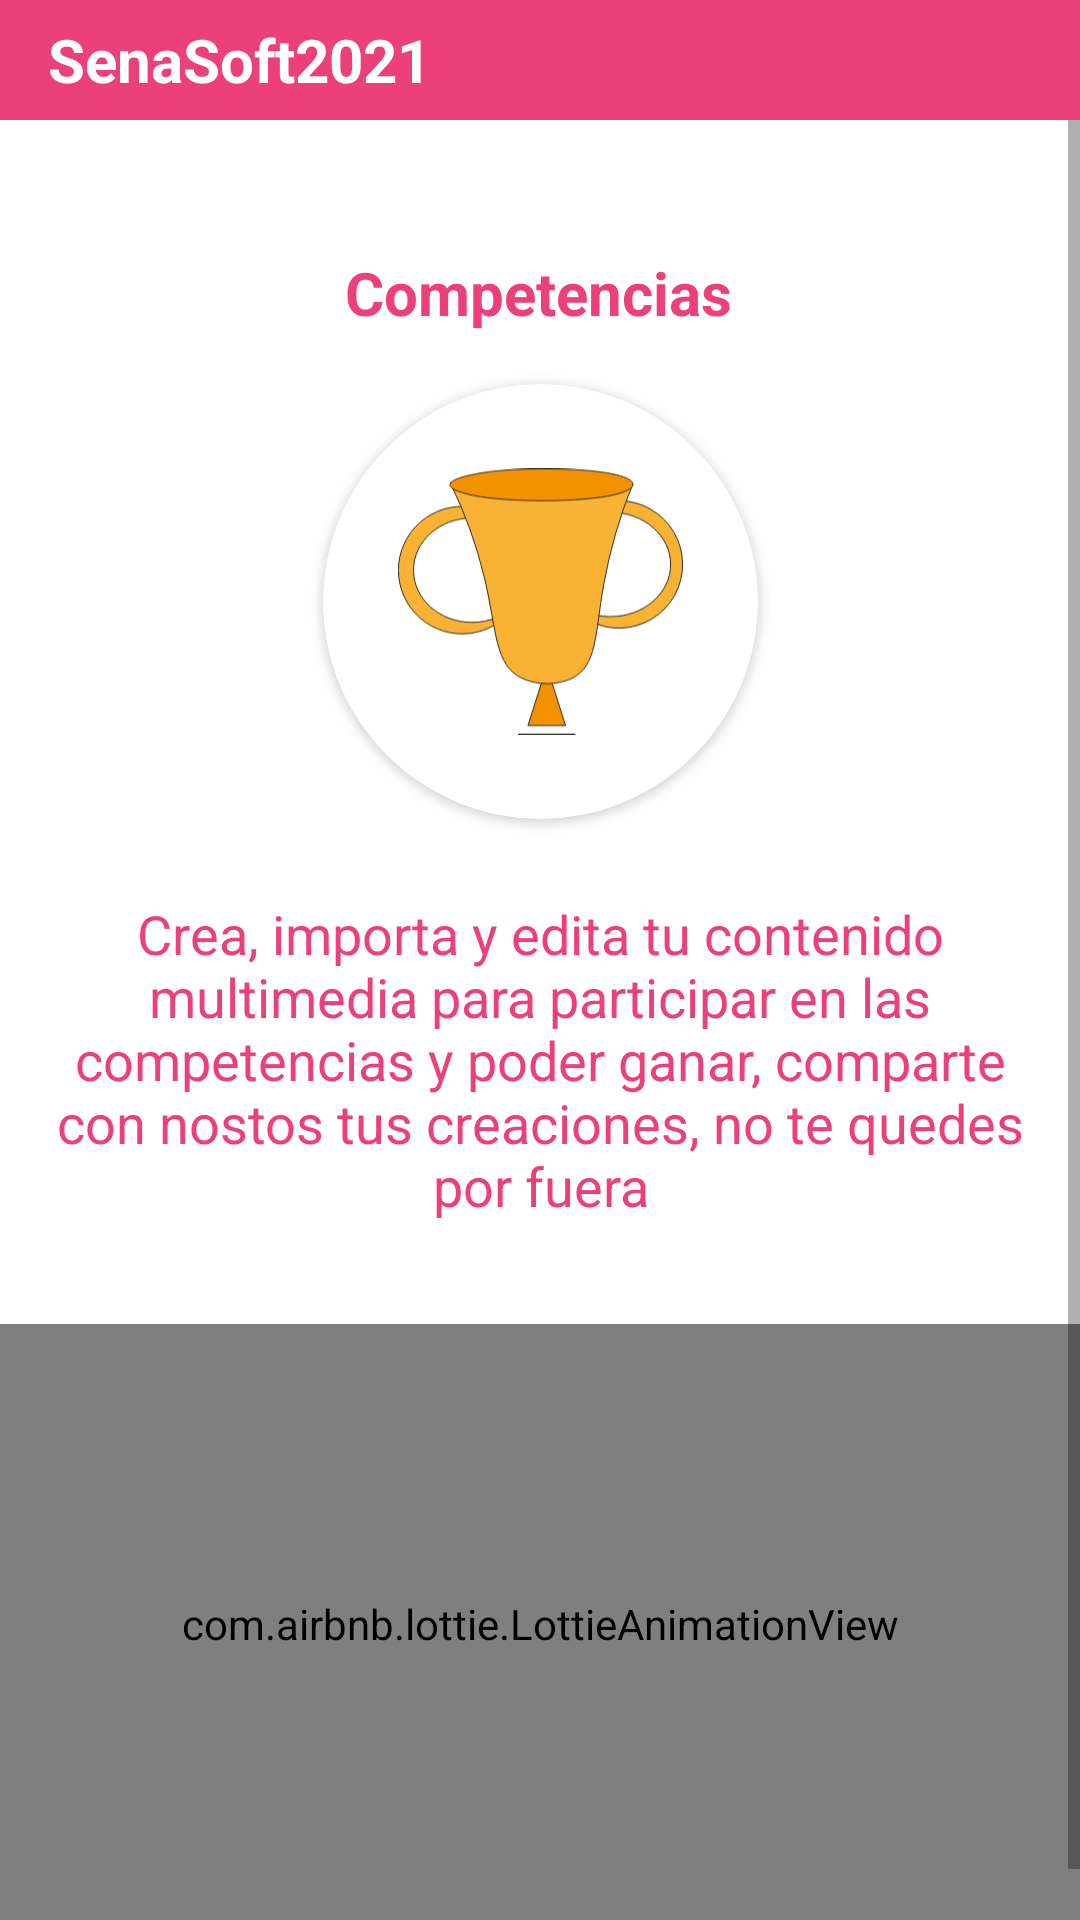

Locate icon controls on the screen. Image size 1080w x 1920h, boxes as (x1, y1, x2, y2).
coup: (398, 468, 683, 735)
